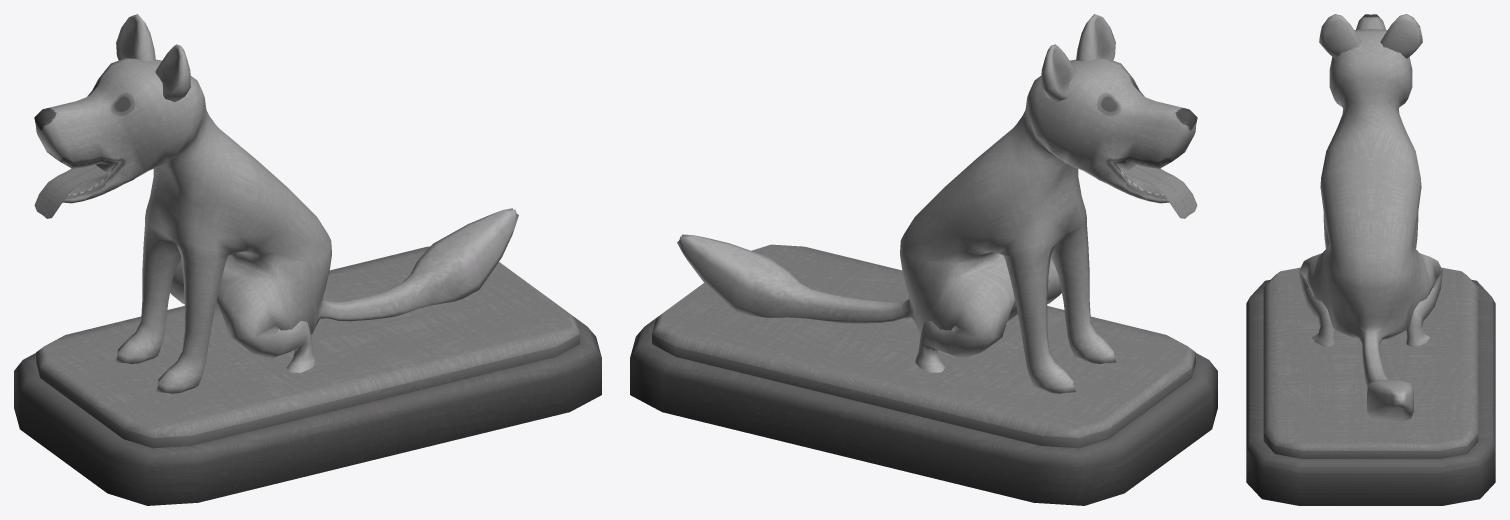
File: DiggoStatueHand.fbx
3 views of the same model, side by side, from view 1: azimuth 30°, elevation 25°; view 2: azimuth 150°, elevation 25°; view 3: azimuth 270°, elevation 25° (orthographic). The views are drawn at different scales.
Parts seen in each view (by area): view 1: BunyipStatue (4), BunyipStatue (2); view 2: BunyipStatue (4), BunyipStatue (2); view 3: BunyipStatue (4), BunyipStatue (2).
Part boxes in pixels (x1,y1,x2,y2): BunyipStatue (4): (14, 246, 601, 505); BunyipStatue (2): (34, 14, 518, 393); BunyipStatue (4): (630, 244, 1217, 505); BunyipStatue (2): (677, 14, 1197, 393); BunyipStatue (4): (1246, 267, 1495, 505); BunyipStatue (2): (1299, 14, 1442, 421).
Bounding box in the file's own units: 1.29 × 0.9824 × 0.6641.
